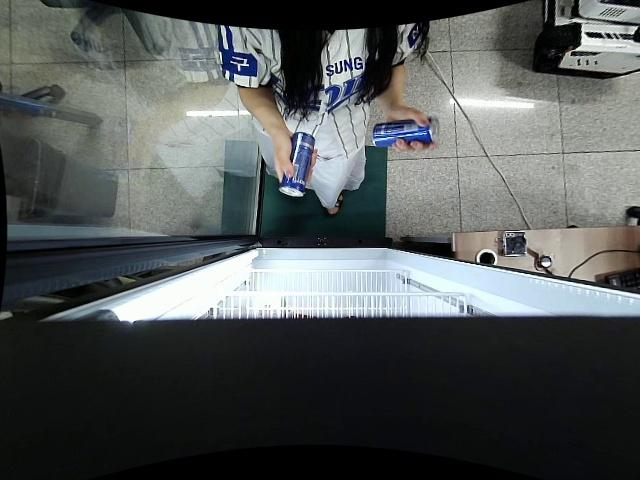00_hand: (385, 105, 443, 155), (275, 132, 317, 185)
16_hot6: (373, 116, 440, 147), (282, 135, 313, 197)
